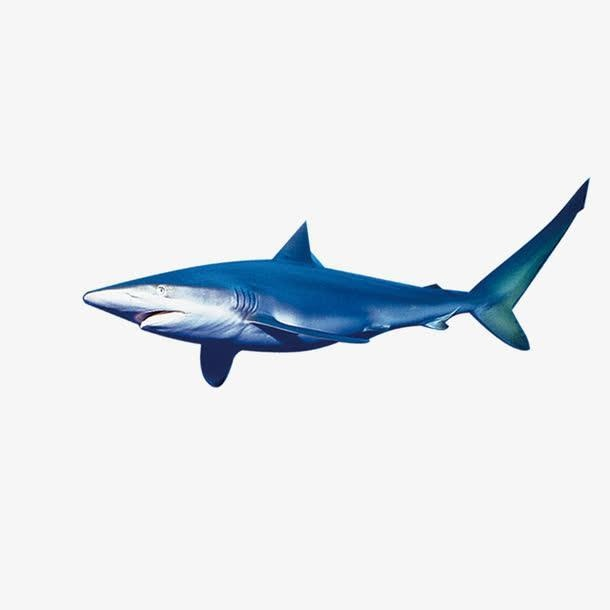fish: (73, 173, 592, 371)
